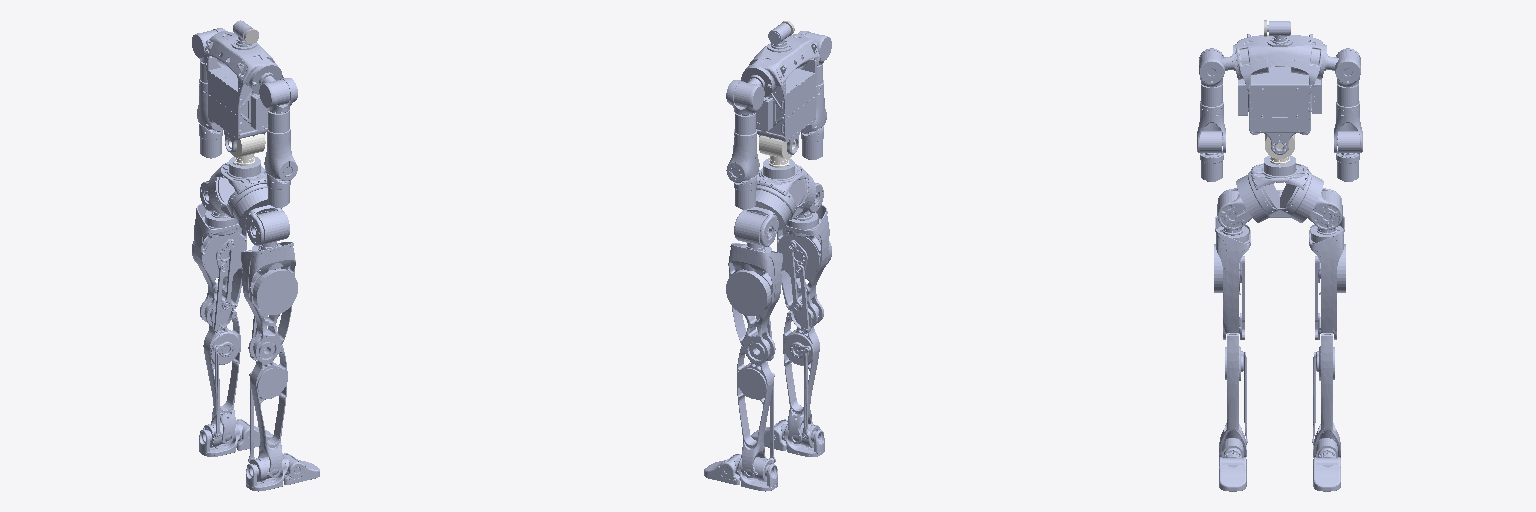
--- Render facts (derived) ---
3 views of the same robot in one strip: view 1: azimuth 30°, elevation 25°; view 2: azimuth 150°, elevation 25°; view 3: azimuth 270°, elevation 25° (orthographic).
Robot: phybot_big_v2 — 30 links, 29 joints (22 revolute, 7 fixed); root link base_link; default pose: every joint at zero.
Links seen in each view (by area): view 1: torso, right_hip_yaw, left_hip_yaw, right_knee, left_knee, base_link, right_shoulder_yaw, right_hip_roll, right_ankle_roll, left_ankle_roll, waist_yaw, right_shoulder_roll (+3 smaller); view 2: torso, left_hip_yaw, right_hip_yaw, left_knee, base_link, right_knee, left_shoulder_yaw, left_hip_roll, left_ankle_roll, right_ankle_roll, waist_yaw, left_shoulder_roll (+3 smaller); view 3: torso, base_link, left_hip_yaw, right_hip_yaw, left_knee, right_knee, left_shoulder_yaw, right_shoulder_yaw, right_hip_pitch, left_hip_pitch, left_toe, right_toe (+4 smaller).
Boxes of the visible links, box(x1,y1,x2,y2) form: torso: box(204, 31, 283, 140); right_hip_yaw: box(241, 242, 297, 362); left_hip_yaw: box(192, 203, 246, 332); right_knee: box(248, 338, 287, 477); left_knee: box(203, 299, 240, 443); base_link: box(208, 156, 281, 228); right_shoulder_yaw: box(264, 105, 297, 180); right_hip_roll: box(251, 210, 288, 250); right_ankle_roll: box(246, 455, 299, 491); left_ankle_roll: box(199, 420, 249, 456); waist_yaw: box(228, 134, 265, 165); right_shoulder_roll: box(259, 78, 297, 113); torso: box(741, 34, 819, 142); left_hip_yaw: box(726, 243, 782, 363); right_hip_yaw: box(777, 205, 831, 333); left_knee: box(737, 339, 775, 477); base_link: box(742, 158, 815, 230); right_knee: box(783, 300, 819, 443); left_shoulder_yaw: box(726, 107, 759, 182); left_hip_roll: box(735, 212, 772, 251); left_ankle_roll: box(724, 455, 777, 491); right_ankle_roll: box(774, 421, 824, 456); waist_yaw: box(759, 136, 795, 167); left_shoulder_roll: box(726, 80, 764, 115); torso: box(1233, 34, 1326, 134); base_link: box(1236, 155, 1323, 222); left_hip_yaw: box(1309, 216, 1345, 339); right_hip_yaw: box(1214, 216, 1250, 339); left_knee: box(1312, 333, 1340, 457); right_knee: box(1219, 333, 1247, 457); left_shoulder_yaw: box(1334, 81, 1362, 152); right_shoulder_yaw: box(1197, 81, 1225, 152); right_hip_pitch: box(1218, 188, 1251, 229); left_hip_pitch: box(1308, 188, 1341, 229); left_toe: box(1313, 457, 1340, 491); right_toe: box(1219, 457, 1246, 491).
Bounding box of the posed robot: 0.2607 × 0.5127 × 1.53 m (x, y, z).
Meshes: 30 distinct files referenced, 30 mesh visuals loaded (30 binary STL).

URDF robot description (phybot_big_v2):
<?xml version="1.0" encoding="utf-8"?>
<robot
  name="phybot_big_v2">
  <link
    name="base_link">
    <inertial>
      <origin
        xyz="-1.7526E-06 -9.4112E-09 -0.022677"
        rpy="0 0 0" />
      <mass
        value="10.7351" />
      <inertia
        ixx="0.06137009"
        ixy="0"
        ixz="0"
        iyy="0.03537058"
        iyz="0"
        izz="0.05430104" />
    </inertial>
    <visual>
      <origin
        xyz="0 0 0"
        rpy="0 0 0" />
      <geometry>
        <mesh
          filename="../meshes/base_link.STL" />
      </geometry>
      <material
        name="">
        <color
          rgba="0.79216 0.81961 0.93333 1" />
      </material>
    </visual>
    <!-- <collision>
      <origin
        xyz="0 0 0"
        rpy="0 0 0" />
      <geometry>
        <mesh
          filename="../meshes/base_link.STL" />
      </geometry>
    </collision> -->

    <collision>
      <origin xyz="0 0 -0.0121" rpy="0 0 0"/> 
      <geometry>
        <sphere radius="0.07587745"/> 
      </geometry>
    </collision>

  </link>
  <link
    name="left_hip_pitch">
    <inertial>
      <origin
        xyz="0.004076 0.026015 -6.8657E-05"
        rpy="0 0 0" />
      <mass
        value="0.44169" />
      <inertia
        ixx="0.00074043"
        ixy="0"
        ixz="0"
        iyy="0.00103270"
        iyz="0"
        izz="0.00108256" />
    </inertial>
    <visual>
      <origin
        xyz="0 0 0"
        rpy="0 0 0" />
      <geometry>
        <mesh
          filename="../meshes/left_hip_pitch.STL" />
      </geometry>
      <material
        name="">
        <color
          rgba="0.79216 0.81961 0.93333 1" />
      </material>
    </visual>
    <!-- <collision>
      <origin
        xyz="0 0 0"
        rpy="0 0 0" />
      <geometry>
        <mesh
          filename="../meshes/left_hip_pitch.STL" />
      </geometry>
    </collision> -->
  </link>
  <joint
    name="left_hip_pitch"
    type="revolute">
    <origin
      xyz="0 0.098294 -0.05675"
      rpy="-0.5236 0 0" />
    <parent
      link="base_link" />
    <child
      link="left_hip_pitch" />
    <axis
      xyz="0 1 0" />
    <limit
      lower="-2.62"
      upper="2.62"
      effort="500"
      velocity="99.21" />
  </joint>
  <link
    name="left_hip_roll">
    <inertial>
      <origin
        xyz="0.0035724 2.2246E-05 -0.0045952"
        rpy="0 0 0" />
      <mass
        value="1.7899" />
      <inertia
        ixx="0.00236288"
        ixy="0"
        ixz="0"
        iyy="0.00246533"
        iyz="0"
        izz="0.00204122" />
    </inertial>
    <visual>
      <origin
        xyz="0 0 0"
        rpy="0 0 0" />
      <geometry>
        <mesh
          filename="../meshes/left_hip_roll.STL" />
      </geometry>
      <material
        name="">
        <color
          rgba="0.79216 0.81961 0.93333 1" />
      </material>
    </visual>
    <!-- <collision>
      <origin
        xyz="0 0 0"
        rpy="0 0 0" />
      <geometry>
        <mesh
          filename="../meshes/left_hip_roll.STL" />
      </geometry>
    </collision> -->

    <collision>
        <origin xyz="0  0 -0.0126" rpy="0 0 0"/> 
        <geometry>
            <sphere radius="0.044"/> 
        </geometry>
    </collision>

  </link>
  <joint
    name="left_hip_roll"
    type="revolute">
    <origin
      xyz="0 0.0555 0"
      rpy="0.5236 0 0" />
    <parent
      link="left_hip_pitch" />
    <child
      link="left_hip_roll" />
    <axis
      xyz="1 0 0" />
    <limit
      lower="-0.17"
      upper="1.92"
      effort="200"
      velocity="98.9" />
  </joint>
  <link
    name="left_hip_yaw">
    <inertial>
      <origin
        xyz="-0.00026865 0.0091811 -0.13143"
        rpy="0 0 0" />
      <mass
        value="8.2347" />
      <inertia
        ixx="0.05858312"
        ixy="0"
        ixz="0"
        iyy="0.06499597"
        iyz="0"
        izz="0.01558079" />
    </inertial>
    <visual>
      <origin
        xyz="0 0 0"
        rpy="0 0 0" />
      <geometry>
        <mesh
          filename="../meshes/left_hip_yaw.STL" />
      </geometry>
      <material
        name="">
        <color
          rgba="0.79216 0.81961 0.93333 1" />
      </material>
    </visual>
    <!-- <collision>
      <origin
        xyz="0 0 0"
        rpy="0 0 0" />
      <geometry>
        <mesh
          filename="../meshes/left_hip_yaw.STL" />
      </geometry>
    </collision> -->
    <collision>
        <origin
                xyz="-0.0005168   0.00384184 -0.14011139"
                rpy="0 0 1.57"/>
        <geometry>
            <cylinder length="0.24" radius="0.05"/>
        </geometry>
    </collision>
  </link>
  <joint
    name="left_hip_yaw"
    type="revolute">
    <origin
      xyz="0 0 -0.071"
      rpy="0 0 0" />
    <parent
      link="left_hip_roll" />
    <child
      link="left_hip_yaw" />
    <axis
      xyz="0 0 1" />
    <limit
      lower="-1.57"
      upper="1.57"
      effort="200"
      velocity="98.37" />
  </joint>
  <link
    name="left_knee">
    <inertial>
      <origin
        xyz="0.020464 -0.0022982 -0.15478"
        rpy="0 0 0" />
      <mass
        value="2.34951368747923" />
      <inertia
        ixx="0.02319949"
        ixy="0"
        ixz="0"
        iyy="0.02459360"
        iyz="0"
        izz="0.00273000" />
    </inertial>
    <visual>
      <origin
        xyz="0 0 0"
        rpy="0 0 0" />
      <geometry>
        <mesh
          filename="../meshes/left_knee.STL" />
      </geometry>
      <material
        name="">
        <color
          rgba="0.79216 0.81961 0.93333 1" />
      </material>
    </visual>
    <!-- <collision>
      <origin
        xyz="0 0 0"
        rpy="0 0 0" />
      <geometry>
        <mesh
          filename="../meshes/left_knee.STL" />
      </geometry>
    </collision> -->
    <collision>
        <origin
                xyz="0.02131874 -0.00413889 -0.18470901"
                rpy="0 0 1.57"/>
        <geometry>
            <cylinder length="0.26" radius="0.035"/>
        </geometry>
    </collision>
  </link>
  <joint
    name="left_knee"
    type="revolute">
    <origin
      xyz="-0.02 0 -0.3358"
      rpy="0 0 0" />
    <parent
      link="left_hip_yaw" />
    <child
      link="left_knee" />
    <axis
      xyz="0 1 0" />
    <limit
      lower="0"
      upper="2.62"
      effort="500"
      velocity="99.21" />
  </joint>
  <link
    name="left_ankle_pitch">
    <inertial>
      <origin
        xyz="-0.0063228 -0.00022052 0.00010909"
        rpy="0 0 0" />
      <mass
        value="0.779615816621087" />
      <inertia
        ixx="0.00048701"
        ixy="0"
        ixz="0"
        iyy="0.00063404"
        iyz="0"
        izz="0.00064078" />
    </inertial>
    <visual>
      <origin
        xyz="0 0 0"
        rpy="0 0 0" />
      <geometry>
        <mesh
          filename="../meshes/left_ankle_pitch.STL" />
      </geometry>
      <material
        name="">
        <color
          rgba="0.79216 0.81961 0.93333 1" />
      </material>
    </visual>
    <!-- <collision>
      <origin
        xyz="0 0 0"
        rpy="0 0 0" />
      <geometry>
        <mesh
          filename="../meshes/left_ankle_pitch.STL" />
      </geometry>
    </collision> -->
  </link>
  <joint
    name="left_ankle_pitch"
    type="revolute">
    <origin
      xyz="0.02 0 -0.42"
      rpy="0 0 0" />
    <parent
      link="left_knee" />
    <child
      link="left_ankle_pitch" />
    <axis
      xyz="0 1 0" />
    <limit
      lower="-0.87"
      upper="0.52"
      effort="200"
      velocity="98.79" />
  </joint>
  <link
    name="left_ankle_roll">
    <inertial>
      <origin
        xyz="0.032699 -0.00053816 -0.02097"
        rpy="0 0 0" />
      <mass
        value="0.864665099199418" />
      <inertia
        ixx="0.00072084"
        ixy="0"
        ixz="0"
        iyy="0.00269141"
        iyz="0"
        izz="0.00269681" />
    </inertial>
    <visual>
      <origin
        xyz="0 0 0"
        rpy="0 0 0" />
      <geometry>
        <mesh
          filename="../meshes/left_ankle_roll.STL" />
      </geometry>
      <material
        name="">
        <color
          rgba="0.79216 0.81961 0.93333 1" />
      </material>
    </visual>
    <!-- <collision>
      <origin
        xyz="0 0 0"
        rpy="0 0 0" />
      <geometry>
        <mesh
          filename="../meshes/left_ankle_roll.STL" />
      </geometry>
    </collision> -->
    <collision name="left_ankle_roll_1">
        <origin rpy="3.14 1.57 0" xyz="0.06 0.022 -0.055"/>
        <geometry>
            <cylinder length="0.25" radius="0.015"/>
        </geometry>
    </collision>
    <collision name="left_ankle_roll_2">
        <origin rpy="3.14 1.57 0" xyz="0.06 -0.022 -0.055"/>
        <geometry>
            <cylinder length="0.25" radius="0.015"/>
        </geometry>
    </collision>
  </link>
  <joint
    name="left_ankle_roll"
    type="revolute">
    <origin
      xyz="0 0 0"
      rpy="0 0 0" />
    <parent
      link="left_ankle_pitch" />
    <child
      link="left_ankle_roll" />
    <axis
      xyz="1 0 0" />
    <limit
      lower="-0.61"
      upper="0.61"
      effort="60"
      velocity="912.56" />
  </joint>
  <link
    name="left_toe">
    <inertial>
      <origin
        xyz="0.021804 -0.00056994 -0.022131"
        rpy="0 0 0" />
      <mass
        value="0.46632" />
      <inertia
        ixx="0.00041042"
        ixy="0"
        ixz="0"
        iyy="0.00068763"
        iyz="0"
        izz="0.00090529" />
    </inertial>
    <visual>
      <origin
        xyz="0 0 0"
        rpy="0 0 0" />
      <geometry>
        <mesh
          filename="../meshes/left_toe.STL" />
      </geometry>
      <material
        name="">
        <color
          rgba="0.79216 0.81961 0.93333 1" />
      </material>
    </visual>
    <!-- <collision>
      <origin
        xyz="0 0 0"
        rpy="0 0 0" />
      <geometry>
        <mesh
          filename="../meshes/left_toe.STL" />
      </geometry>
    </collision> -->

    <!-- <collision name="left_toe_1">
        <origin rpy="3.14 1.57 0" xyz="0.04 0.022 -0.030"/>
        <geometry>
            <cylinder length="0.1" radius="0.015"/>
        </geometry>
    </collision>
    <collision name="left_toe_2">
        <origin rpy="3.14 1.57 0" xyz="0.04 -0.022 -0.030"/>
        <geometry>
            <cylinder length="0.1" radius="0.015"/>
        </geometry>
    </collision> -->

  </link>
  <joint
    name="left_toe"
    type="fixed">
    <origin
      xyz="0.080534 0 -0.011771"
      rpy="0 0 0" />
    <parent
      link="left_ankle_roll" />
    <child
      link="left_toe" />
    <axis
      xyz="0 1 0" />
    <limit
      lower="-0.35"
      upper="0.35"
      effort="30"
      velocity="912.56" />
  </joint>
  <link
    name="right_hip_pitch">
    <inertial>
      <origin
        xyz="0.0040759694114764 -0.0260144752481777 6.86491409210843E-05"
        rpy="0 0 0" />
      <mass
        value="0.44169" />
      <inertia
        ixx="0.00074043"
        ixy="0"
        ixz="0"
        iyy="0.00103270"
        iyz="0"
        izz="0.00108256" />
    </inertial>
    <visual>
      <origin
        xyz="0 0 0"
        rpy="0 0 0" />
      <geometry>
        <mesh
          filename="../meshes/right_hip_pitch.STL" />
      </geometry>
      <material
        name="">
        <color
          rgba="0.792156862745098 0.819607843137255 0.933333333333333 1" />
      </material>
    </visual>
    <!-- <collision>
      <origin
        xyz="0 0 0"
        rpy="0 0 0" />
      <geometry>
        <mesh
          filename="../meshes/right_hip_pitch.STL" />
      </geometry>
    </collision> -->

  </link>
  <joint
    name="right_hip_pitch"
    type="revolute">
    <origin
      xyz="0 -0.098294 -0.05675"
      rpy="0.5236 0 0" />
    <parent
      link="base_link" />
    <child
      link="right_hip_pitch" />
    <axis
      xyz="0 1 0" />
    <limit
      lower="-2.62"
      upper="2.62"
      effort="500"
      velocity="99.21" />
  </joint>
  <link
    name="right_hip_roll">
    <inertial>
      <origin
        xyz="0.00357241336391693 -2.08041706899476E-05 -0.00459515165123509"
        rpy="0 0 0" />
      <mass
        value="1.7899" />
      <inertia
        ixx="0.00236288"
        ixy="0"
        ixz="0"
        iyy="0.00246533"
        iyz="0"
        izz="0.00204122" />
    </inertial>
    <visual>
      <origin
        xyz="0 0 0"
        rpy="0 0 0" />
      <geometry>
        <mesh
          filename="../meshes/right_hip_roll.STL" />
      </geometry>
      <material
        name="">
        <color
          rgba="0.792156862745098 0.819607843137255 0.933333333333333 1" />
      </material>
    </visual>
    <!-- <collision>
      <origin
        xyz="0 0 0"
        rpy="0 0 0" />
      <geometry>
        <mesh
          filename="../meshes/right_hip_roll.STL" />
      </geometry>
    </collision> -->
    <collision>
        <origin xyz="0 0 -0.0126" rpy="0 0 1.57"/> 
        <geometry>
            <sphere radius="0.044"/> 
        </geometry>
    </collision>

  </link>
  <joint
    name="right_hip_roll"
    type="revolute">
    <origin
      xyz="0 -0.0555 0"
      rpy="-0.5236 0 0" />
    <parent
      link="right_hip_pitch" />
    <child
      link="right_hip_roll" />
    <axis
      xyz="1 0 0" />
    <limit
      lower="-1.92"
      upper="0.17"
      effort="200"
      velocity="98.9" />
  </joint>
  <link
    name="right_hip_yaw">
    <inertial>
      <origin
        xyz="-0.000272304238010777 -0.00886270167993108 -0.132463124494311"
        rpy="0 0 0" />
      <mass
        value="8.2347" />
      <inertia
        ixx="0.05858312"
        ixy="0"
        ixz="0"
        iyy="0.06499597"
        iyz="0"
        izz="0.01558079" />
    </inertial>
    <visual>
      <origin
        xyz="0 0 0"
        rpy="0 0 0" />
      <geometry>
        <mesh
          filename="../meshes/right_hip_yaw.STL" />
      </geometry>
      <material
        name="">
        <color
          rgba="0.792156862745098 0.819607843137255 0.933333333333333 1" />
      </material>
    </visual>
    <!-- <collision>
      <origin
        xyz="0 0 0"
        rpy="0 0 0" />
      <geometry>
        <mesh
          filename="../meshes/right_hip_yaw.STL" />
      </geometry>
    </collision> -->
    <collision>
        <origin
            xyz="0 0 -0.14"
            rpy="0 0 1.57"/>
        <geometry>
            <cylinder length="0.24" radius="0.05"/>
        </geometry>
    </collision>
  </link>
  <joint
    name="right_hip_yaw"
    type="revolute">
    <origin
      xyz="0 0 -0.071"
      rpy="0 0 0" />
    <parent
      link="right_hip_roll" />
    <child
      link="right_hip_yaw" />
    <axis
      xyz="0 0 1" />
    <limit
      lower="-1.57"
      upper="1.57"
      effort="200"
      velocity="98.37" />
  </joint>
  <link
    name="right_knee">
    <inertial>
      <origin
        xyz="0.0204619077753644 0.00233538295417332 -0.154631546822118"
        rpy="0 0 0" />
      <mass
        value="2.34951368747923" />
      <inertia
        ixx="0.02319949"
        ixy="0"
        ixz="0"
        iyy="0.02459360"
        iyz="0"
        izz="0.00273000" />
    </inertial>
    <visual>
      <origin
        xyz="0 0 0"
        rpy="0 0 0" />
      <geometry>
        <mesh
          filename="../meshes/right_knee.STL" />
      </geometry>
      <material
        name="">
        <color
          rgba="0.792156862745098 0.819607843137255 0.933333333333333 1" />
      </material>
    </visual>
    <!-- <collision>
      <origin
        xyz="0 0 0"
        rpy="0 0 0" />
      <geometry>
        <mesh
          filename="../meshes/right_knee.STL" />
      </geometry>
    </collision> -->

    <collision>
        <origin
                xyz="0.022 0 -0.185"
                rpy="0 0 1.57"/>
        <geometry>
            <cylinder length="0.26" radius="0.035"/>
        </geometry>
    </collision>

  </link>
  <joint
    name="right_knee"
    type="revolute">
    <origin
      xyz="-0.02 0 -0.3358"
      rpy="0 0 0" />
    <parent
      link="right_hip_yaw" />
    <child
      link="right_knee" />
    <axis
      xyz="0 1 0" />
    <limit
      lower="0"
      upper="2.62"
      effort="500"
      velocity="99.21" />
  </joint>
  <link
    name="right_ankle_pitch">
    <inertial>
      <origin
        xyz="-0.0066221249528529 0.00021518718052374 0.000102091658813031"
        rpy="0 0 0" />
      <mass
        value="0.779615816621087" />
      <inertia
        ixx="0.00048701"
        ixy="0"
        ixz="0"
        iyy="0.00063404"
        iyz="0"
        izz="0.00064078" />
    </inertial>
    <visual>
      <origin
        xyz="0 0 0"
        rpy="0 0 0" />
      <geometry>
        <mesh
          filename="../meshes/right_ankle_pitch.STL" />
      </geometry>
      <material
        name="">
        <color
          rgba="0.792156862745098 0.819607843137255 0.933333333333333 1" />
      </material>
    </visual>
    <!-- <collision>
      <origin
        xyz="0 0 0"
        rpy="0 0 0" />
      <geometry>
        <mesh
          filename="../meshes/right_ankle_pitch.STL" />
      </geometry>
    </collision> -->
  </link>
  <joint
    name="right_ankle_pitch"
    type="revolute">
    <origin
      xyz="0.019999 0 -0.42"
      rpy="0 0 0" />
    <parent
      link="right_knee" />
    <child
      link="right_ankle_pitch" />
    <axis
      xyz="0 1 0" />
    <limit
      lower="-0.87"
      upper="0.52"
      effort="200"
      velocity="98.79" />
  </joint>
  <link
    name="right_ankle_roll">
    <inertial>
      <origin
        xyz="0.0318667378069465 -2.7198565401898E-05 -0.0211278402272528"
        rpy="0 0 0" />
      <mass
        value="0.864665099199418" />
      <inertia
        ixx="0.00072084"
        ixy="0"
        ixz="0"
        iyy="0.00269141"
        iyz="0"
        izz="0.00269681" />
    </inertial>
    <visual>
      <origin
        xyz="0 0 0"
        rpy="0 0 0" />
      <geometry>
        <mesh
          filename="../meshes/right_ankle_roll.STL" />
      </geometry>
      <material
        name="">
        <color
          rgba="0.792156862745098 0.819607843137255 0.933333333333333 1" />
      </material>
    </visual>
    <!-- <collision>
      <origin
        xyz="0 0 0"
        rpy="0 0 0" />
      <geometry>
        <mesh
          filename="../meshes/right_ankle_roll.STL" />
      </geometry>
    </collision> -->
    <collision name="right_ankle_roll_1">
        <origin rpy="3.14 1.57 0" xyz="0.06 0.022 -0.055"/>
        <geometry>
            <cylinder length="0.25" radius="0.015"/>
        </geometry>
    </collision>
    <collision name="right_ankle_roll_2">
        <origin rpy="3.14 1.57 0" xyz="0.06 -0.022 -0.055"/>
        <geometry>
            <cylinder length="0.25" radius="0.015"/>
        </geometry>
    </collision>


  </link>
  <joint
    name="right_ankle_roll"
    type="revolute">
    <origin
      xyz="0 0 0"
      rpy="0 0 0" />
    <parent
      link="right_ankle_pitch" />
    <child
      link="right_ankle_roll" />
    <axis
      xyz="1 0 0" />
    <limit
      lower="-0.61"
      upper="0.61"
      effort="60"
      velocity="912.56" />
  </joint>
  <link
    name="right_toe">
    <inertial>
      <origin
        xyz="0.0218058011161165 0.000567202291027497 -0.0221315336416936"
        rpy="0 0 0" />
      <mass
        value="0.466326161969885" />
      <inertia
        ixx="0.000410404259732374"
        ixy="0"
        ixz="0"
        iyy="0.000687660298550977"
        iyz="0"
        izz="0.000905332816719196" />
    </inertial>
    <visual>
      <origin
        xyz="0 0 0"
        rpy="0 0 0" />
      <geometry>
        <mesh
          filename="../meshes/right_toe.STL" />
      </geometry>
      <material
        name="">
        <color
          rgba="0.792156862745098 0.819607843137255 0.933333333333333 1" />
      </material>
    </visual>
    <!-- <collision>
      <origin
        xyz="0 0 0"
        rpy="0 0 0" />
      <geometry>
        <mesh
          filename="../meshes/right_toe.STL" />
      </geometry>
    </collision> -->
    
    <!-- <collision name="right_toe_1">
        <origin rpy="3.14 1.57 0" xyz="0.04 0.022 -0.030"/>
        <geometry>
            <cylinder length="0.1" radius="0.015"/>
        </geometry>
    </collision>
    <collision name="right_toe_2">
        <origin rpy="3.14 1.57 0" xyz="0.04 -0.022 -0.030"/>
        <geometry>
            <cylinder length="0.1" radius="0.015"/>
        </geometry>
    </collision> -->

  </link>
  <joint
    name="right_toe"
    type="fixed">
    <origin
      xyz="0.080534 0 -0.011767"
      rpy="0 0 0" />
    <parent
      link="right_ankle_roll" />
    <child
      link="right_toe" />
    <axis
      xyz="0 1 0" />
    <limit
      lower="-0.35"
      upper="0.35"
      effort="30"
      velocity="912.56" />
  </joint>
  <link
    name="waist_yaw">
    <inertial>
      <origin
        xyz="0 0 0"
        rpy="0 0 0" />
      <mass
        value="1.78991587181407" />
      <inertia
        ixx="0.00236181"
        ixy="0"
        ixz="0"
        iyy="0.00246667"
        iyz="0"
        izz="0.00204150" />
    </inertial>
    <visual>
      <origin
        xyz="0 0 0"
        rpy="0 0 0" />
      <geometry>
        <mesh
          filename="../meshes/waist_yaw.STL" />
      </geometry>
      <material
        name="">
        <color
          rgba="1 1 1 1" />
      </material>
    </visual>
    <!-- <collision>
      <origin
        xyz="0 0 0"
        rpy="0 0 0" />
      <geometry>
        <mesh
          filename="../meshes/waist_yaw.STL" />
      </geometry>
    </collision> -->
  </link>
  <joint
    name="waist_yaw"
    type="revolute">
    <origin
      xyz="0 0 0.086505"
      rpy="0 0 0" />
    <parent
      link="base_link" />
    <child
      link="waist_yaw" />
    <axis
      xyz="0 0 1" />
    <limit
      lower="-1.57"
      upper="1.57"
      effort="230"
      velocity="98.37" />
  </joint>
  <link
    name="waist_roll">
    <inertial>
      <origin
        xyz="0.00501474995528999 -7.42456761902381E-11 0.0269011699666235"
        rpy="0 0 0" />
      <mass
        value="0.25708907596838" />
      <inertia
        ixx="0.00033852"
        ixy="0"
        ixz="0"
        iyy="0.00085596"
        iyz="0"
        izz="0.00087061" />
    </inertial>
    <visual>
      <origin
        xyz="0 0 0"
        rpy="0 0 0" />
      <geometry>
        <mesh
          filename="../meshes/waist_roll.STL" />
      </geometry>
      <material
        name="">
        <color
          rgba="0.792156862745098 0.819607843137255 0.933333333333333 1" />
      </material>
    </visual>
    <!-- <collision>
      <origin
        xyz="0 0 0"
        rpy="0 0 0" />
      <geometry>
        <mesh
          filename="../meshes/waist_roll.STL" />
      </geometry>
    </collision> -->
    <collision>
      <origin xyz="0 0 0.0" rpy="0 0 0"/> 
      <geometry>
        <sphere radius="0.048"/> 
      </geometry>
    </collision>
  </link>
  <joint
    name="waist_roll"
    type="revolute">
    <origin
      xyz="0 0 0.071"
      rpy="0 0 0" />
    <parent
      link="waist_yaw" />
    <child
      link="waist_roll" />
    <axis
      xyz="1 0 0" />
    <limit
      lower="-0.79"
      upper="0.79"
      effort="200"
      velocity="98.9" />
  </joint>
  <link
    name="torso">
    <inertial>
      <origin
        xyz="0.0104383176733446 -0.000971650934676074 0.00658265360026851"
        rpy="0 0 0" />
      <mass
        value="15.2390373934226" />
      <inertia
        ixx="0.17269364"
        ixy="0"
        ixz="0"
        iyy="0.11207821"
        iyz="0"
        izz="0.10305042" />
    </inertial>
    <visual>
      <origin
        xyz="0 0 0"
        rpy="0 0 0" />
      <geometry>
        <mesh
          filename="../meshes/torso.STL" />
      </geometry>
      <material
        name="">
        <color
          rgba="0.792156862745098 0.819607843137255 0.933333333333333 1" />
      </material>
    </visual>
    <!-- <collision>
      <origin
        xyz="0 0 0"
        rpy="0 0 0" />
      <geometry>
        <mesh
          filename="../meshes/torso.STL" />
      </geometry>
    </collision> -->
    <collision>
      <origin xyz="0 0 0.0" rpy="0 0 0"/> 
      <geometry>
        <sphere radius="0.1"/> 
      </geometry>
    </collision>
  </link>
  <joint
    name="torso"
    type="fixed">
    <origin
      xyz="-0.01125 0 0.18725"
      rpy="0 0 0" />
    <parent
      link="waist_roll" />
    <child
      link="torso" />
    <axis
      xyz="0 0 0" />
  </joint>
  <link
    name="head_yaw">
    <inertial>
      <origin
        xyz="0.00237545947403634 0.000175019850399158 0.0341733796675161"
        rpy="0 0 0" />
      <mass
        value="0.410260027137704" />
      <inertia
        ixx="0.00026671"
        ixy="0"
        ixz="0"
        iyy="0.00018340"
        iyz="0"
        izz="0.00019709" />
    </inertial>
    <visual>
      <origin
        xyz="0 0 0"
        rpy="0 0 0" />
      <geometry>
        <mesh
          filename="../meshes/head_yaw.STL" />
      </geometry>
      <material
        name="">
        <color
          rgba="0.792156862745098 0.819607843137255 0.933333333333333 1" />
      </material>
    </visual>
    <!-- <collision>
      <origin
        xyz="0 0 0"
        rpy="0 0 0" />
      <geometry>
        <mesh
          filename="../meshes/head_yaw.STL" />
      </geometry>
    </collision> -->
  </link>
  <joint
    name="head_yaw"
    type="fixed">
    <origin
      xyz="0.0064042 -0.0002299 0.14825"
      rpy="0 0 0" />
    <parent
      link="torso" />
    <child
      link="head_yaw" />
    <axis
      xyz="0 0 1" />
    <limit
      lower="-1.57"
      upper="1.57"
      effort="58"
      velocity="98.16" />
  </joint>
  <link
    name="head_pitch">
    <inertial>
      <origin
        xyz="-1.73472347597681E-18 -0.04549999999944 -2.77555756156289E-17"
        rpy="0 0 0" />
      <mass
        value="0.0530143760293278" />
      <inertia
        ixx="8.72528272149353E-06"
        ixy="0"
        ixz="0"
        iyy="1.65669925091649E-05"
        iyz="0"
        izz="8.72528272149353E-06" />
    </inertial>
    <visual>
      <origin
        xyz="0 0 0"
        rpy="0 0 0" />
      <geometry>
        <mesh
          filename="../meshes/head_pitch.STL" />
      </geometry>
      <material
        name="">
        <color
          rgba="0.866666666666667 0.866666666666667 0.890196078431372 1" />
      </material>
    </visual>
    <!-- <collision>
      <origin
        xyz="0 0 0"
        rpy="0 0 0" />
      <geometry>
        <mesh
          filename="../meshes/head_pitch.STL" />
      </geometry>
    </collision> -->
  </link>
  <joint
    name="head_pitch"
    type="fixed">
    <origin
      xyz="0.0023458 0.0002299 0.0415"
      rpy="0 0 0" />
    <parent
      link="head_yaw" />
    <child
      link="head_pitch" />
    <axis
      xyz="0 1 0" />
    <limit
      lower="-0.52"
      upper="0.52"
      effort="58"
      velocity="98.16" />
  </joint>
  <link
    name="left_shoulder_pitch">
    <inertial>
      <origin
        xyz="-8.03640037896729E-06 0.0687158248036335 -1.13902853676739E-08"
        rpy="0 0 0" />
      <mass
        value="1.10129101469661" />
      <inertia
        ixx="0.00116966"
        ixy="0"
        ixz="0"
        iyy="0.00085299"
        iyz="0"
        izz="0.00129962" />
    </inertial>
    <visual>
      <origin
        xyz="0 0 0"
        rpy="0 0 0" />
      <geometry>
        <mesh
          filename="../meshes/left_shoulder_pitch.STL" />
      </geometry>
      <material
        name="">
        <color
          rgba="0.792156862745098 0.819607843137255 0.933333333333333 1" />
      </material>
    </visual>
    <!-- <collision>
      <origin
        xyz="0 0 0"
        rpy="0 0 0" />
      <geometry>
        <mesh
          filename="../meshes/left_shoulder_pitch.STL" />
      </geometry>
    </collision> -->
  </link>
  <joint
    name="left_shoulder_pitch"
    type="revolute">
    <origin
      xyz="0.01125 0.13501 0.075496"
      rpy="-0.17453 0 0" />
    <parent
      link="torso" />
    <child
      link="left_shoulder_pitch" />
    <axis
      xyz="0 1 0" />
    <limit
      lower="-2.79"
      upper="0.87"
      effort="200"
      velocity="8.9" />
  </joint>
  <link
    name="left_shoulder_roll">
    <inertial>
      <origin
        xyz="0.00336042441578621 -9.44427226173827E-07 -0.018244593826635"
        rpy="0 0 0" />
      <mass
        value="0.244845453559213" />
      <inertia
        ixx="0.00037680"
        ixy="0"
        ixz="0"
        iyy="0.00052763"
        iyz="0"
        izz="0.00042739" />
    </inertial>
    <visual>
      <origin
        xyz="0 0 0"
        rpy="0 0 0" />
      <geometry>
        <mesh
          filename="../meshes/left_shoulder_roll.STL" />
      </geometry>
      <material
        name="">
        <color
          rgba="0.792156862745098 0.819607843137255 0.933333333333333 1" />
      </material>
    </visual>
    <!-- <collision>
      <origin
        xyz="0 0 0"
        rpy="0 0 0" />
      <geometry>
        <mesh
          filename="../meshes/left_shoulder_roll.STL" />
      </geometry>
    </collision> -->
    <collision>
      <origin xyz="0 0 -0.012" rpy="0 0 0"/> 
      <geometry>
        <sphere radius="0.042"/> 
      </geometry>
    </collision>
  </link>
  <joint
    name="left_shoulder_roll"
    type="revolute">
    <origin
      xyz="0 0.0775 0"
      rpy="0.17453 0 0" />
    <parent
      link="left_shoulder_pitch" />
    <child
      link="left_shoulder_roll" />
    <axis
      xyz="1 0 0" />
    <limit
      lower="-0.17"
      upper="3.14"
      effort="200"
      velocity="8.9" />
  </joint>
  <link
    name="left_shoulder_yaw">
    <inertial>
      <origin
        xyz="-0.00120547851464594 -8.77122817546927E-06 -0.0668662334775707"
        rpy="0 0 0" />
      <mass
        value="1.06054112090059" />
      <inertia
        ixx="0.00428393"
        ixy="0"
        ixz="0"
        iyy="0.00418309"
        iyz="0"
        izz="0.00091111" />
    </inertial>
    <visual>
      <origin
        xyz="0 0 0"
        rpy="0 0 0" />
      <geometry>
        <mesh
          filename="../meshes/left_shoulder_yaw.STL" />
      </geometry>
      <material
        name="">
        <color
          rgba="0.792156862745098 0.819607843137255 0.933333333333333 1" />
      </material>
    </visual>
    <!-- <collision>
      <origin
        xyz="0 0 0"
        rpy="0 0 0" />
      <geometry>
        <mesh
          filename="../meshes/left_shoulder_yaw.STL" />
      </geometry>
    </collision> -->
    <collision>
      <origin
        xyz="0 0 -0.12"
        rpy="0 0 0"/>
      <geometry>
        <cylinder length="0.14" radius="0.035"/>
      </geometry>
    </collision>
  </link>
  <joint
    name="left_shoulder_yaw"
    type="revolute">
    <origin
      xyz="0 0 -0.06"
      rpy="0 0 0" />
    <parent
      link="left_shoulder_roll" />
    <child
      link="left_shoulder_yaw" />
    <axis
      xyz="0 0 1" />
    <limit
      lower="-1.57"
      upper="1.57"
      effort="58"
      velocity="8.16" />
  </joint>
  <link
    name="left_elbow_pitch">
    <inertial>
      <origin
        xyz="-0.00262781669405159 0.00287637584745964 -0.00648865492626005"
        rpy="0 0 0" />
      <mass
        value="0.849505022575061" />
      <inertia
        ixx="0.00077814"
        ixy="0"
        ixz="0"
        iyy="0.00070822"
        iyz="0"
        izz="0.00065929" />
    </inertial>
    <visual>
      <origin
        xyz="0 0 0"
        rpy="0 0 0" />
      <geometry>
        <mesh
          filename="../meshes/left_elbow_pitch.STL" />
      </geometry>
      <material
        name="">
        <color
          rgba="0.792156862745098 0.819607843137255 0.933333333333333 1" />
      </material>
    </visual>
    <!-- <collision>
      <origin
        xyz="0 0 0"
        rpy="0 0 0" />
      <geometry>
        <mesh
          filename="../meshes/left_elbow_pitch.STL" />
      </geometry>
    </collision> -->
  </link>
  <joint
    name="left_elbow_pitch"
    type="revolute">
    <origin
      xyz="0.01 0 -0.195"
      rpy="0 0 0" />
    <parent
      link="left_shoulder_yaw" />
    <child
      link="left_elbow_pitch" />
    <axis
      xyz="0 1 0" />
    <limit
      lower="-2.36"
      upper="0"
      effort="58"
      velocity="8.16" />
  </joint>
  <link
    name="left_elbow_yaw">
    <inertial>
      <origin
        xyz="3.60822483003176E-16 6.74460487459783E-15 0.0343762069195041"
        rpy="0 0 0" />
      <mass
        value="0.746923201865211" />
      <inertia
        ixx="0.00057775"
        ixy="0"
        ixz="0"
        iyy="0.00057775"
        iyz="0"
        izz="0.00042011" />
    </inertial>
    <visual>
      <origin
        xyz="0 0 0"
        rpy="0 0 0" />
      <geometry>
        <mesh
          filename="../meshes/left_elbow_yaw.STL" />
      </geometry>
      <material
        name="">
        <color
          rgba="0.792156862745098 0.819607843137255 0.933333333333333 1" />
      </material>
    </visual>
    <!-- <collision>
      <origin
        xyz="0 0 0"
        rpy="0 0 0" />
      <geometry>
        <mesh
          filename="../meshes/left_elbow_yaw.STL" />
      </geometry>
    </collision> -->
    <collision>
        <origin
            xyz="0 0 -0.05"
            rpy="0 0 0"/>
        <geometry>
            <cylinder length="0.22" radius="0.03"/>
        </geometry>
    </collision>
  </link>
  <joint
    name="left_elbow_yaw"
    type="fixed">
    <origin
      xyz="-0.01 0 -0.123"
      rpy="0 0 0" />
    <parent
      link="left_elbow_pitch" />
    <child
      link="left_elbow_yaw" />
    <axis
      xyz="0 0 1" />
    <limit
      lower="-1.57"
      upper="1.57"
      effort="58"
      velocity="8.16" />
  </joint>
  <link
    name="right_shoulder_pitch">
    <inertial>
      <origin
        xyz="-8.03862679613424E-06 -0.0687158229719367 1.26730511501583E-08"
        rpy="0 0 0" />
      <mass
        value="1.10129109656517" />
      <inertia
        ixx="0.00116966"
        ixy="0"
        ixz="0"
        iyy="0.00085299"
        iyz="0"
        izz="0.00129962" />
    </inertial>
    <visual>
      <origin
        xyz="0 0 0"
        rpy="0 0 0" />
      <geometry>
        <mesh
          filename="../meshes/right_shoulder_pitch.STL" />
      </geometry>
      <material
        name="">
        <color
          rgba="0.792156862745098 0.819607843137255 0.933333333333333 1" />
      </material>
    </visual>
    <!-- <collision>
      <origin
        xyz="0 0 0"
        rpy="0 0 0" />
      <geometry>
        <mesh
          filename="../meshes/right_shoulder_pitch.STL" />
      </geometry>
    </collision> -->
  </link>
  <joint
    name="right_shoulder_pitch"
    type="revolute">
    <origin
      xyz="0.01125 -0.13501 0.075496"
      rpy="0.17453 0 0" />
    <parent
      link="torso" />
    <child
      link="right_shoulder_pitch" />
    <axis
      xyz="0 1 0" />
    <limit
      lower="-2.79"
      upper="0.87"
      effort="200"
      velocity="8.9" />
  </joint>
  <link
    name="right_shoulder_roll">
    <inertial>
      <origin
        xyz="0.00336042448528233 -9.44352544135496E-07 -0.0182445936269791"
        rpy="0 0 0" />
      <mass
        value="0.244845451610364" />
      <inertia
        ixx="0.00037680"
        ixy="0"
        ixz="0"
        iyy="0.00052763"
        iyz="0"
        izz="0.00042739" />
    </inertial>
    <visual>
      <origin
        xyz="0 0 0"
        rpy="0 0 0" />
      <geometry>
        <mesh
          filename="../meshes/right_shoulder_roll.STL" />
      </geometry>
      <material
        name="">
        <color
          rgba="0.792156862745098 0.819607843137255 0.933333333333333 1" />
      </material>
    </visual>
    <!-- <collision>
      <origin
        xyz="0 0 0"
        rpy="0 0 0" />
      <geometry>
        <mesh
          filename="../meshes/right_shoulder_roll.STL" />
      </geometry>
    </collision> -->
    <collision>
      <origin xyz="0 0 -0.012" rpy="0 0 0"/> 
      <geometry>
        <sphere radius="0.042"/> 
      </geometry>
    </collision>
  </link>
  <joint
    name="right_shoulder_roll"
    type="revolute">
    <origin
      xyz="0 -0.0775 0"
      rpy="-0.17453 0 0" />
    <parent
      link="right_shoulder_pitch" />
    <child
      link="right_shoulder_roll" />
    <axis
      xyz="1 0 0" />
    <limit
      lower="-3.14"
      upper="0.17"
      effort="200"
      velocity="8.9" />
  </joint>
  <link
    name="right_shoulder_yaw">
    <inertial>
      <origin
        xyz="-0.00120651203594915 9.41796250067406E-06 -0.0668674050614123"
        rpy="0 0 0" />
      <mass
        value="1.06054121587905" />
      <inertia
        ixx="0.00428391"
        ixy="0"
        ixz="0"
        iyy="0.00418306"
        iyz="0"
        izz="0.00091110" />
    </inertial>
    <visual>
      <origin
        xyz="0 0 0"
        rpy="0 0 0" />
      <geometry>
        <mesh
          filename="../meshes/right_shoulder_yaw.STL" />
      </geometry>
      <material
        name="">
        <color
          rgba="0.792156862745098 0.819607843137255 0.933333333333333 1" />
      </material>
    </visual>
    <!-- <collision>
      <origin
        xyz="0 0 0"
        rpy="0 0 0" />
      <geometry>
        <mesh
          filename="../meshes/right_shoulder_yaw.STL" />
      </geometry>
    </collision> -->
    <collision>
      <origin
          xyz="0 0 -0.12"
          rpy="0 0 0"/>
      <geometry>
        <cylinder length="0.14" radius="0.035"/>
      </geometry>
    </collision>
  </link>
  <joint
    name="right_shoulder_yaw"
    type="revolute">
    <origin
      xyz="0 0 -0.06"
      rpy="0 0 0" />
    <parent
      link="right_shoulder_roll" />
    <child
      link="right_shoulder_yaw" />
    <axis
      xyz="0 0 1" />
    <limit
      lower="-1.57"
      upper="1.57"
      effort="58"
      velocity="8.16" />
  </joint>
  <link
    name="right_elbow_pitch">
    <inertial>
      <origin
        xyz="-0.00255364445119893 -0.00288875664264684 -0.0063852371949043"
        rpy="0 0 0" />
      <mass
        value="0.845839359809938" />
      <inertia
        ixx="0.00077552"
        ixy="0"
        ixz="0"
        iyy="0.00070459"
        iyz="0"
        izz="0.00065735" />
    </inertial>
    <visual>
      <origin
        xyz="0 0 0"
        rpy="0 0 0" />
      <geometry>
        <mesh
          filename="../meshes/right_elbow_pitch.STL" />
      </geometry>
      <material
        name="">
        <color
          rgba="0.792156862745098 0.819607843137255 0.933333333333333 1" />
      </material>
    </visual>
    <!-- <collision>
      <origin
        xyz="0 0 0"
        rpy="0 0 0" />
      <geometry>
        <mesh
          filename="../meshes/right_elbow_pitch.STL" />
      </geometry>
    </collision> -->
  </link>
  <joint
    name="right_elbow_pitch"
    type="revolute">
    <origin
      xyz="0.01 0 -0.195"
      rpy="0 0 0" />
    <parent
      link="right_shoulder_yaw" />
    <child
      link="right_elbow_pitch" />
    <axis
      xyz="0 1 0" />
    <limit
      lower="-2.36"
      upper="0"
      effort="58"
      velocity="8.16" />
  </joint>
  <link
    name="right_elbow_yaw">
    <inertial>
      <origin
        xyz="-1.41033018596914E-15 3.44446693389955E-14 0.0343762069195041"
        rpy="0 0 0" />
      <mass
        value="0.746923201865211" />
      <inertia
        ixx="0.000577753779904352"
        ixy="0"
        ixz="0"
        iyy="0.000577753779904352"
        iyz="0"
        izz="0.00042010935387363" />
    </inertial>
    <visual>
      <origin
        xyz="0 0 0"
        rpy="0 0 0" />
      <geometry>
        <mesh
          filename="../meshes/right_elbow_yaw.STL" />
      </geometry>
      <material
        name="">
        <color
          rgba="0.792156862745098 0.819607843137255 0.933333333333333 1" />
      </material>
    </visual>
    <!-- <collision>
      <origin
        xyz="0 0 0"
        rpy="0 0 0" />
      <geometry>
        <mesh
          filename="../meshes/right_elbow_yaw.STL" />
      </geometry>
    </collision> -->
    <collision>
      <origin
          xyz="0 0 -0.05"
          rpy="0 0 0"/>
      <geometry>
        <cylinder length="0.22" radius="0.03"/>
      </geometry>
    </collision>
  </link>
  <joint
    name="right_elbow_yaw"
    type="fixed">
    <origin
      xyz="-0.01 0 -0.123"
      rpy="0 0 0" />
    <parent
      link="right_elbow_pitch" />
    <child
      link="right_elbow_yaw" />
    <axis
      xyz="0 0 1" />
    <limit
      lower="-1.57"
      upper="1.57"
      effort="58"
      velocity="8.16" />
  </joint>
</robot>
